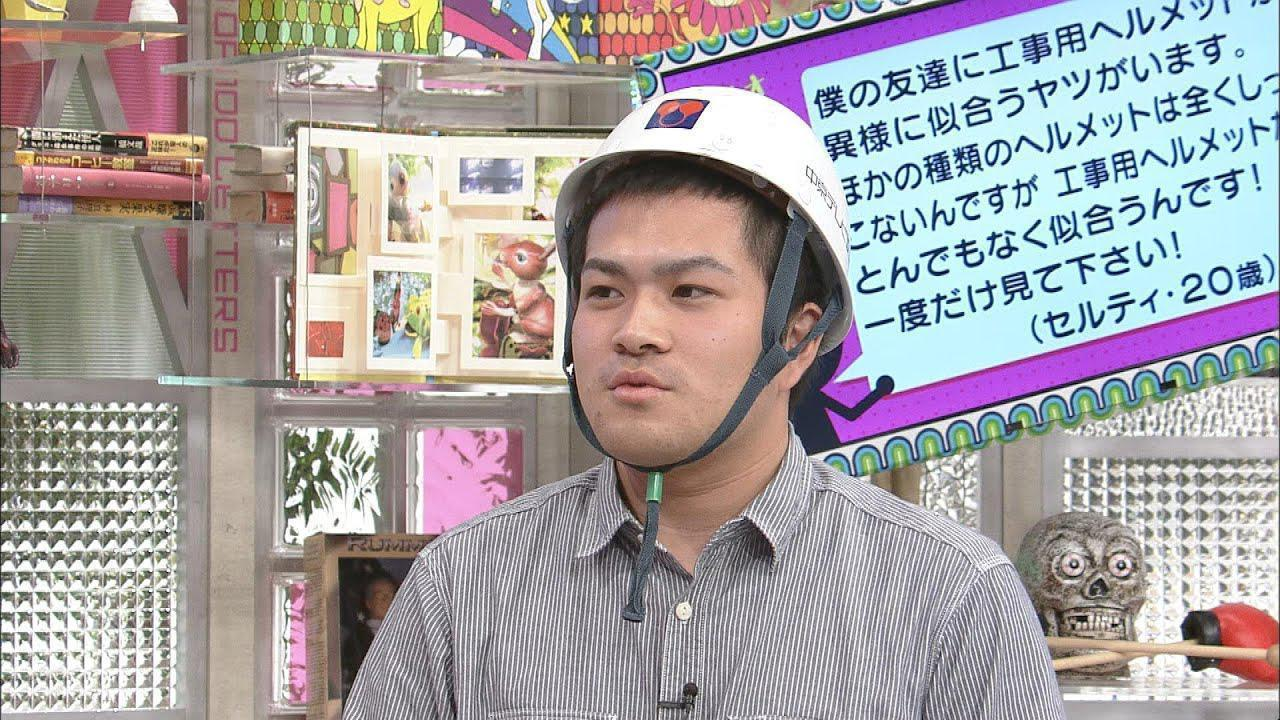helmet: (553, 83, 855, 357)
